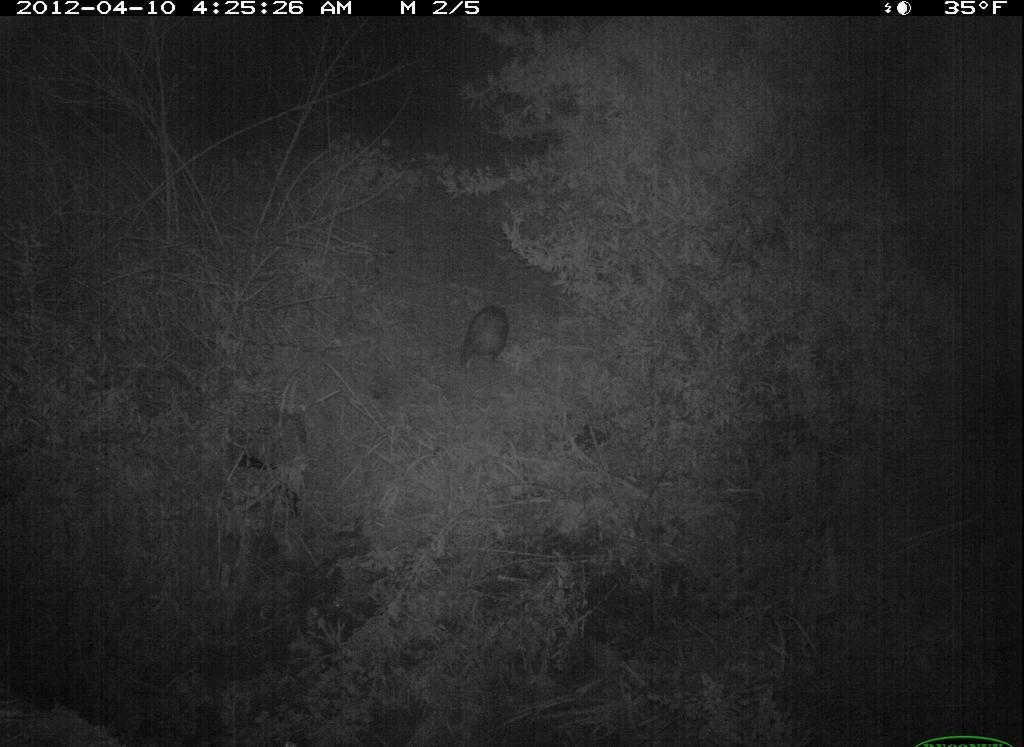opossum: (447, 292, 530, 387)
